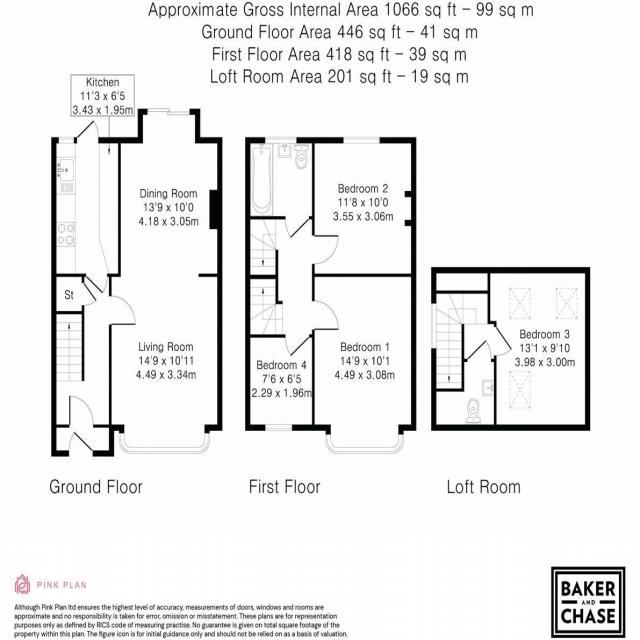DOOR: (311, 233, 340, 266), (108, 294, 137, 327), (67, 394, 94, 428), (312, 300, 339, 331), (68, 430, 94, 457), (284, 215, 311, 240), (75, 118, 101, 143), (466, 338, 492, 362), (494, 326, 513, 357), (285, 334, 310, 357), (85, 273, 108, 295)
ROOM: (109, 108, 223, 455), (312, 273, 417, 454), (487, 267, 591, 431), (311, 137, 417, 278), (51, 118, 121, 296), (245, 334, 315, 431)
SLIDING DOOR: (145, 106, 192, 118)
WINDOW: (118, 431, 211, 456), (325, 433, 405, 455), (430, 302, 437, 350), (264, 136, 298, 145), (343, 136, 380, 144), (264, 423, 293, 432), (58, 137, 75, 144)
